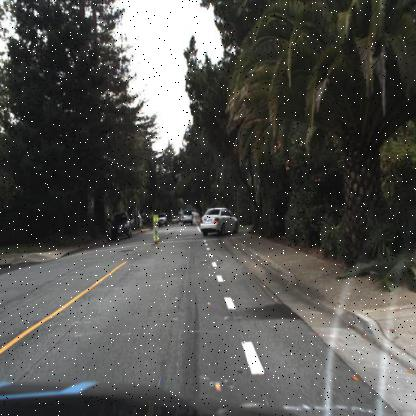car: (199, 204, 241, 240), (106, 209, 132, 243), (180, 206, 194, 228), (181, 208, 195, 228), (158, 211, 168, 229)
